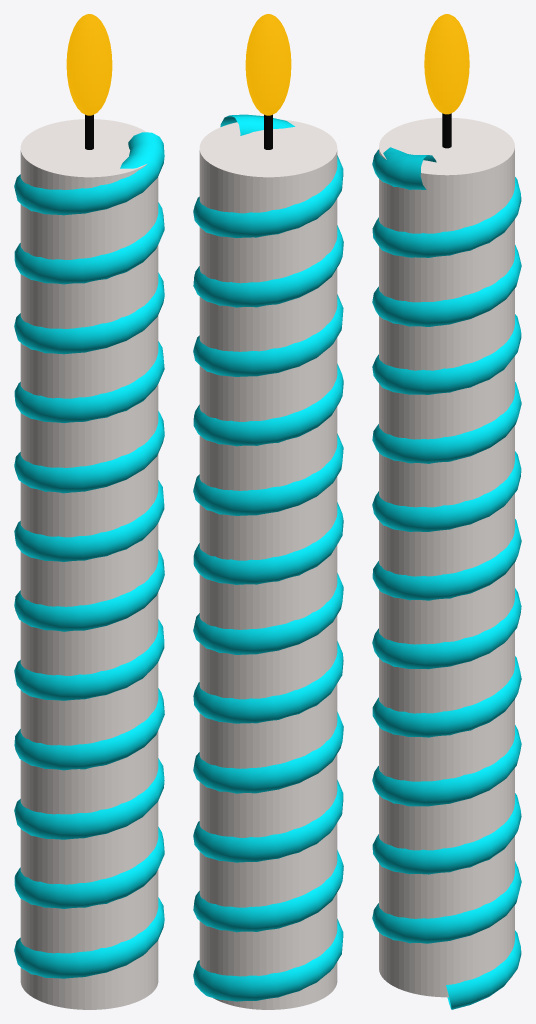
File: wax4.glb
The picture shows the model from 3 angles, left to right: view 1: azimuth 30°, elevation 25°; view 2: azimuth 150°, elevation 25°; view 3: azimuth 270°, elevation 25°; orthographic projection.
Visible parts, largest first — view 1: Candle, SpiralCurve, Flame; view 2: Candle, SpiralCurve, Flame; view 3: Candle, SpiralCurve, Flame.
Boxes of the visible parts, x1,y1,x2,y2 form: Candle: (20,119,158,1009); SpiralCurve: (14,132,164,978); Flame: (66,14,112,115); Candle: (199,119,337,1009); SpiralCurve: (193,114,343,1001); Flame: (245,14,291,115); Candle: (379,117,514,997); SpiralCurve: (372,147,521,1009); Flame: (424,14,469,114).
Bounding box in the file's own units: 0.1713 × 1.22 × 0.1713.
